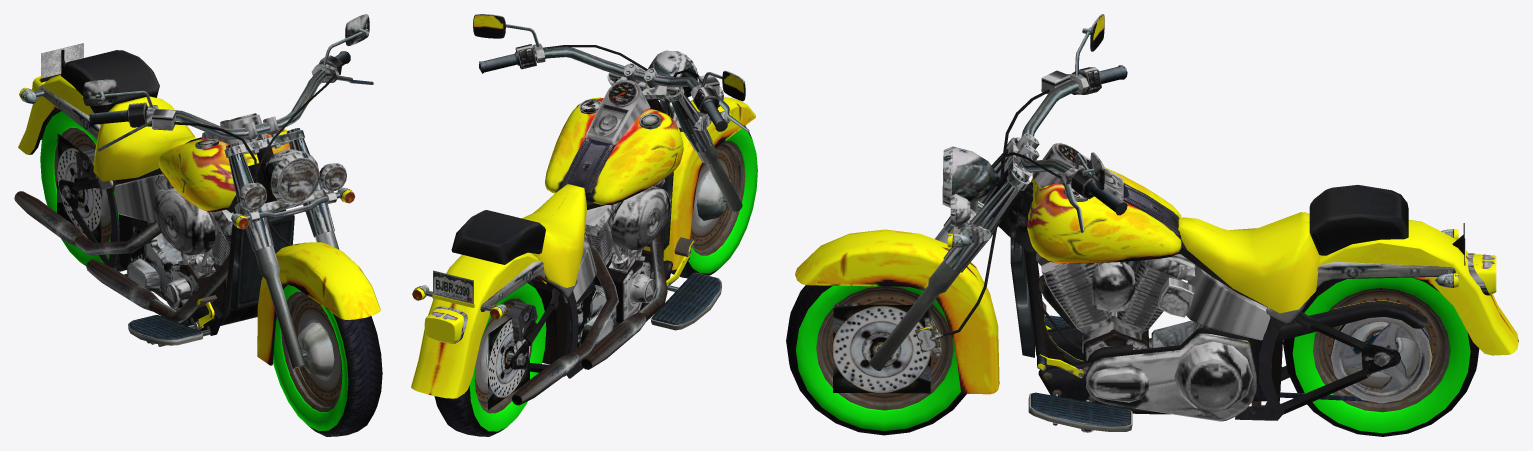
The picture shows the model from 3 angles, left to right: view 1: azimuth 30°, elevation 25°; view 2: azimuth 150°, elevation 25°; view 3: azimuth 270°, elevation 25°; orthographic projection. The views are drawn at different scales.
Bounding box in the file's own units: 236 × 245 × 475.
Materials: 6 (6 with a texture image).
